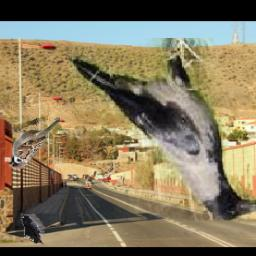Crow: (68, 39, 256, 222), (21, 215, 45, 245)
Sparrow: (8, 117, 59, 169)
